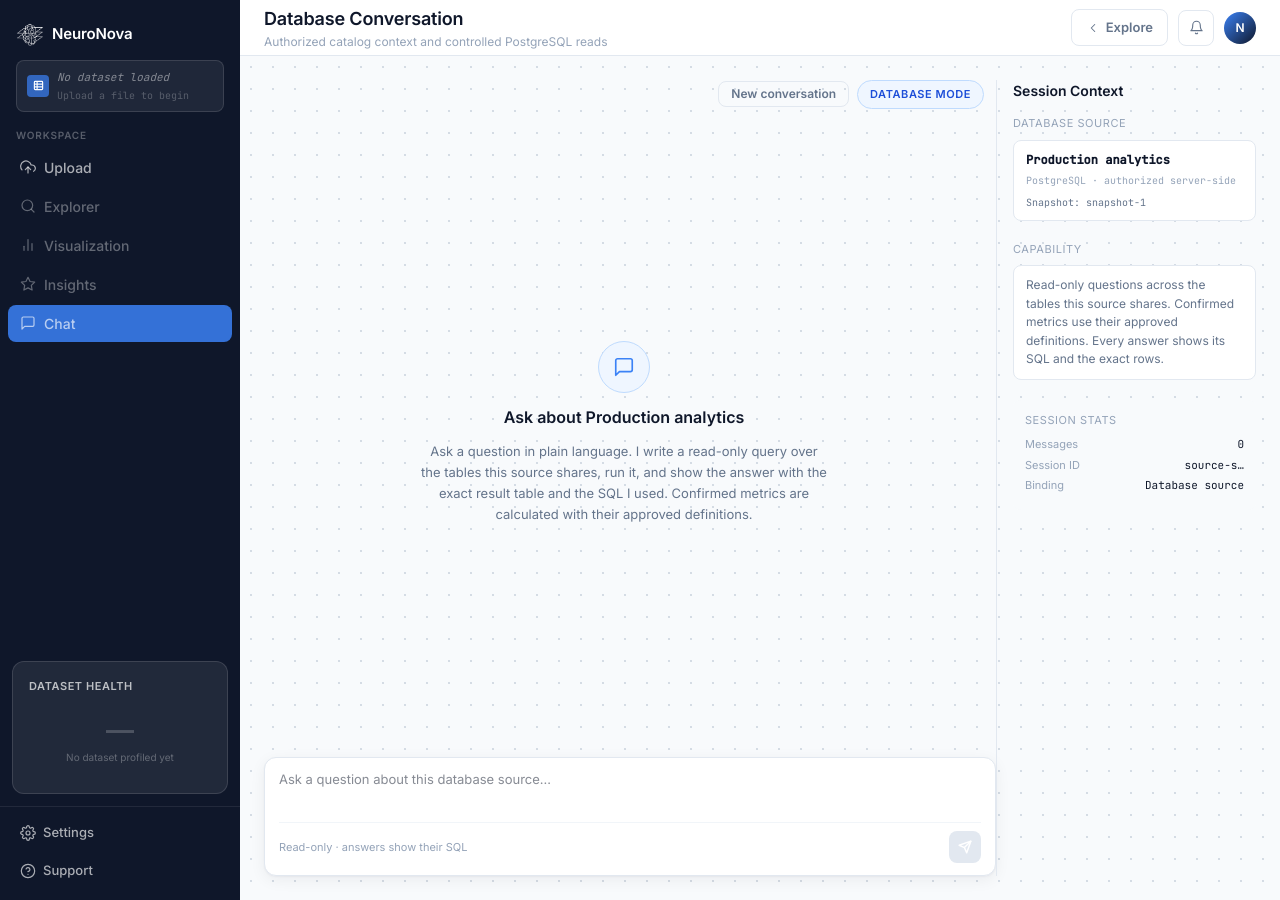
Scenario: creates a JWT-only source session and renders precision-safe PostgreSQL values
Check: the text "Production analytics" is shown, box [1026, 152, 1170, 168]
Type "What is the total?" into the text box named "Database question" at (630, 790), box [279, 770, 981, 809]
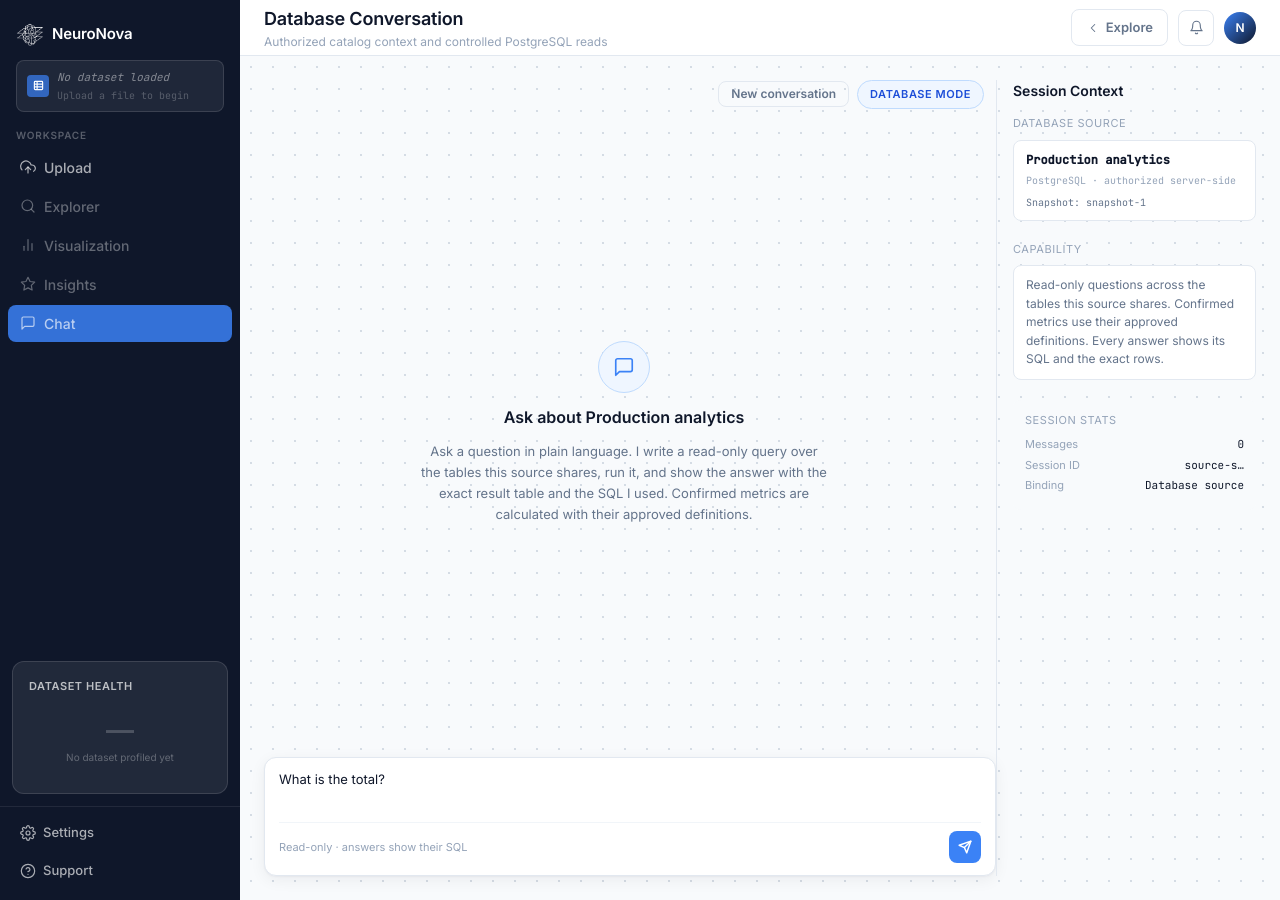
Click the button named "Send database question" at (965, 847), box [949, 831, 981, 863]
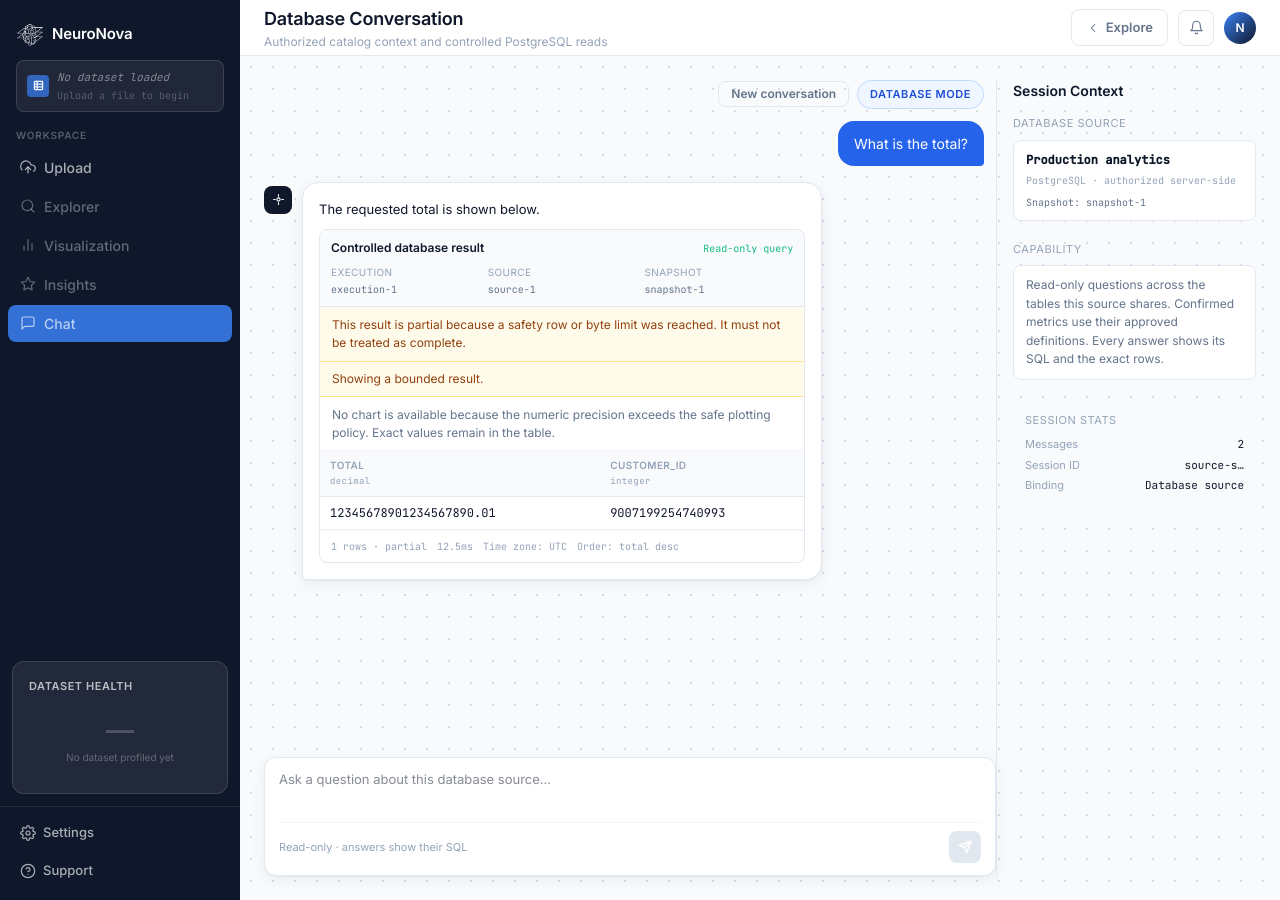
Check: the text "12345678901234567890.01" is shown, box [320, 496, 600, 529]
Check: the text "9007199254740993" is shown, box [600, 496, 804, 529]
Check: the text "This result is partial" is shown, box [332, 317, 780, 350]
